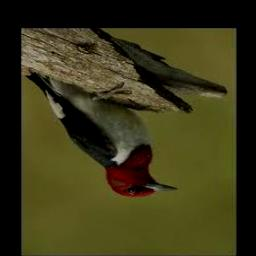Woodpecker: (26, 72, 178, 198)
